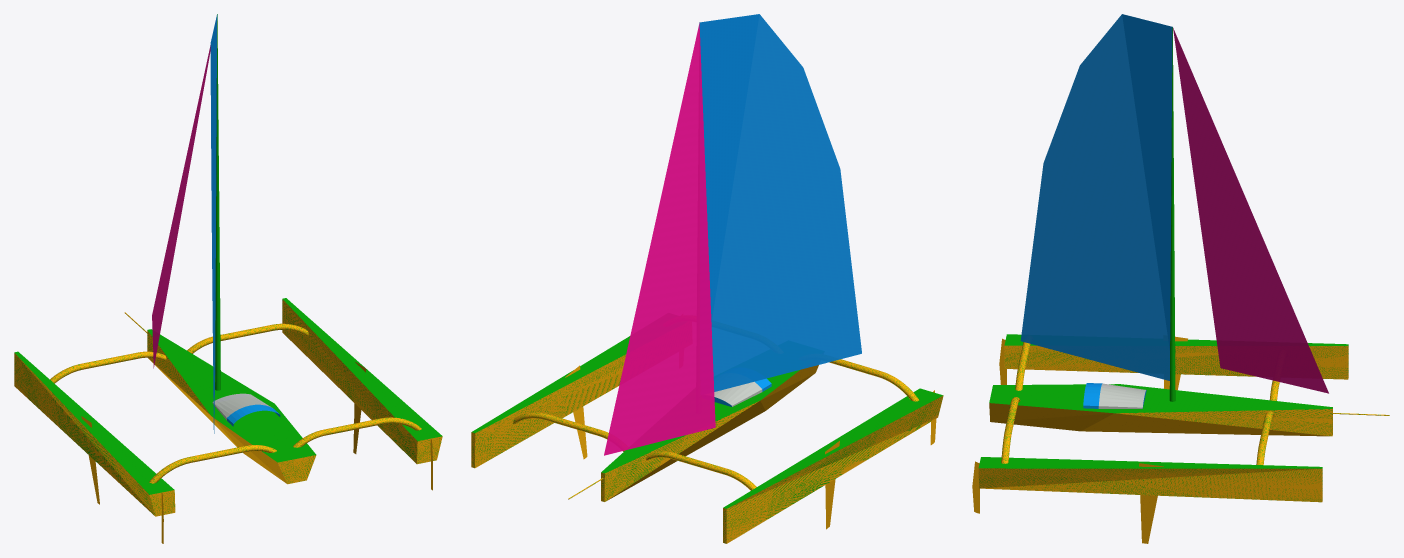
File: TRIMARAN_FOC_TRIBORD.dae
3 renders of one model, left to right at view 1: azimuth 30°, elevation 25°; view 2: azimuth 150°, elevation 25°; view 3: azimuth 270°, elevation 25°, orthographic. The views are drawn at different scales.
Visible parts, largest first — view 1: SketchUp (×14), instance_1 (×3); view 2: instance_1 (×2), SketchUp (×11); view 3: instance_1 (×3), SketchUp (×11).
Part boxes in pixels (box(x1,y1,x2,y2)): SketchUp (×14): box(14, 298, 442, 516); instance_1 (×3): box(152, 14, 220, 433); instance_1 (×2): box(604, 14, 861, 455); SketchUp (×11): box(471, 336, 943, 543); instance_1 (×3): box(1020, 14, 1328, 401); SketchUp (×11): box(978, 334, 1348, 543).
Size of the model in its own units: 90746 by 111674 by 134945.
